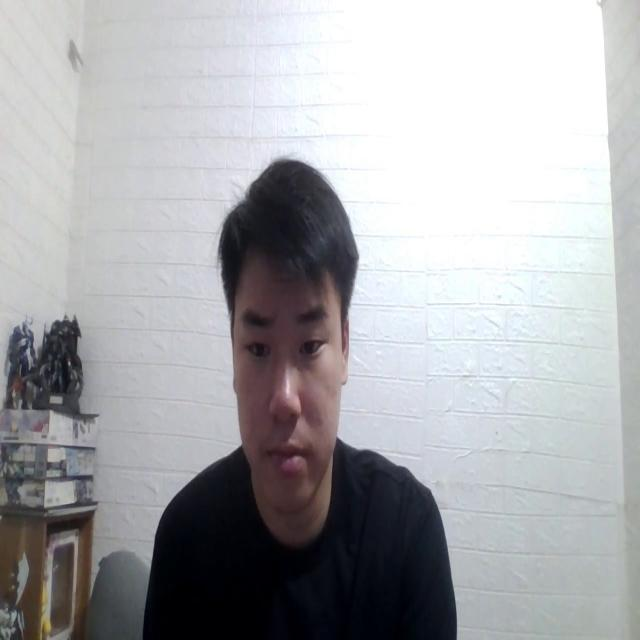student: (144, 153, 456, 640)
